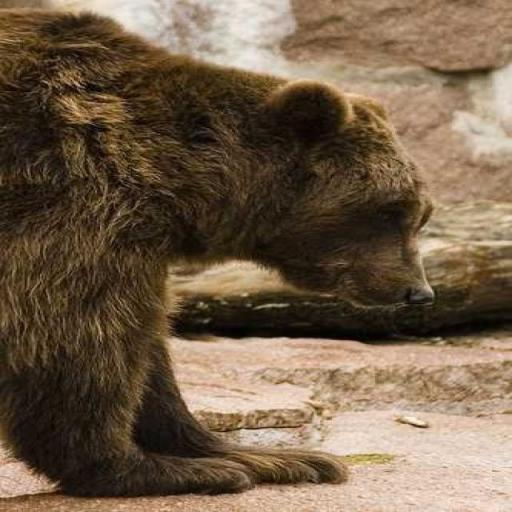Bear: (0, 6, 437, 498)
